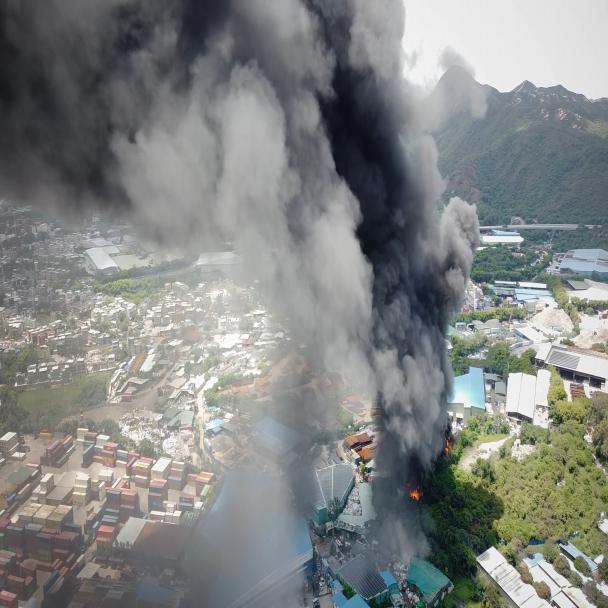Fire: (400, 427, 456, 524)
smoke: (0, 0, 498, 394)
